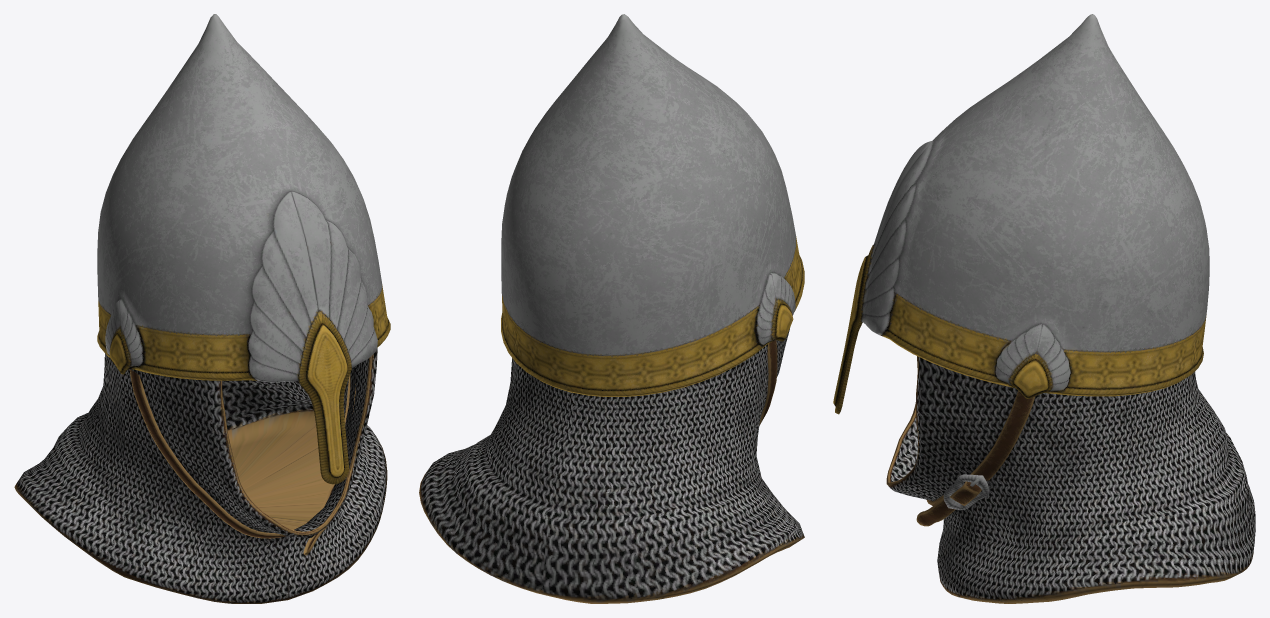
File: pelargirmarine_helmet_1_b_coif.fbx
3 views of the same model, side by side, from view 1: azimuth 30°, elevation 25°; view 2: azimuth 150°, elevation 25°; view 3: azimuth 270°, elevation 25° (orthographic). The views are drawn at different scales.
Parts seen in each view (by area): view 1: pelargirmarine_helmet_1_b_coif; view 2: pelargirmarine_helmet_1_b_coif; view 3: pelargirmarine_helmet_1_b_coif.
Part boxes in pixels (x1,y1,x2,y2): pelargirmarine_helmet_1_b_coif: [14, 14, 390, 603]; pelargirmarine_helmet_1_b_coif: [419, 14, 804, 603]; pelargirmarine_helmet_1_b_coif: [833, 14, 1255, 603].
Size of the model in its own units: 0.2963 by 0.3079 by 0.4516.
1 material, 1 textured.
